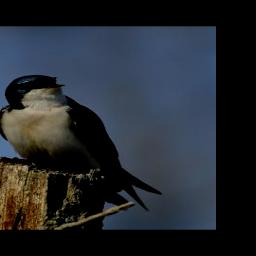Swallow: (0, 74, 163, 211)
